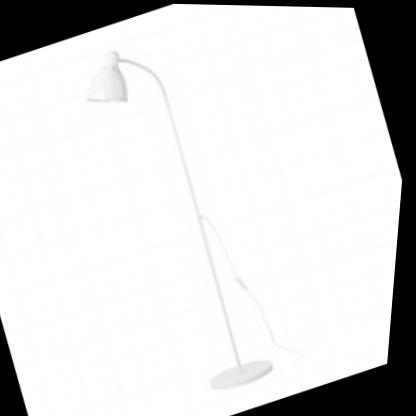Lamp: (44, 16, 322, 416)
